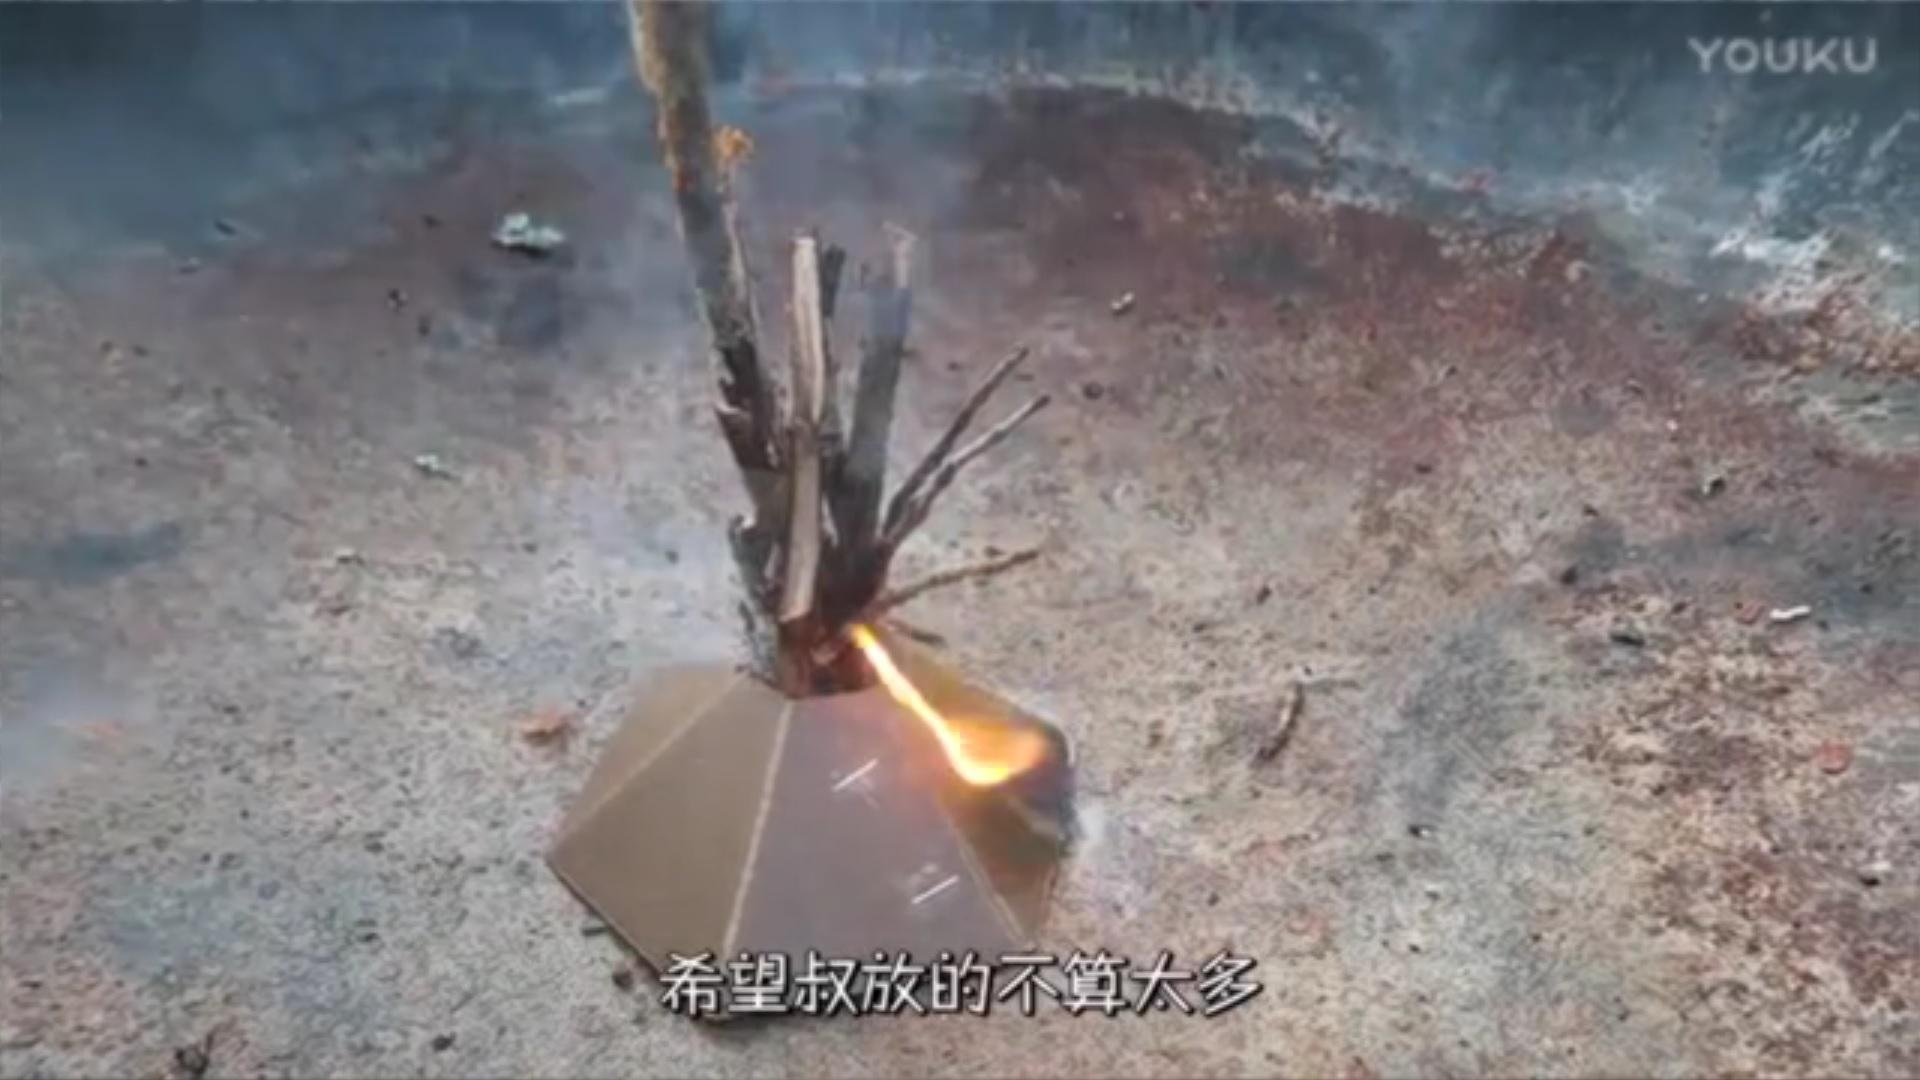fire: (840, 625, 1040, 793)
